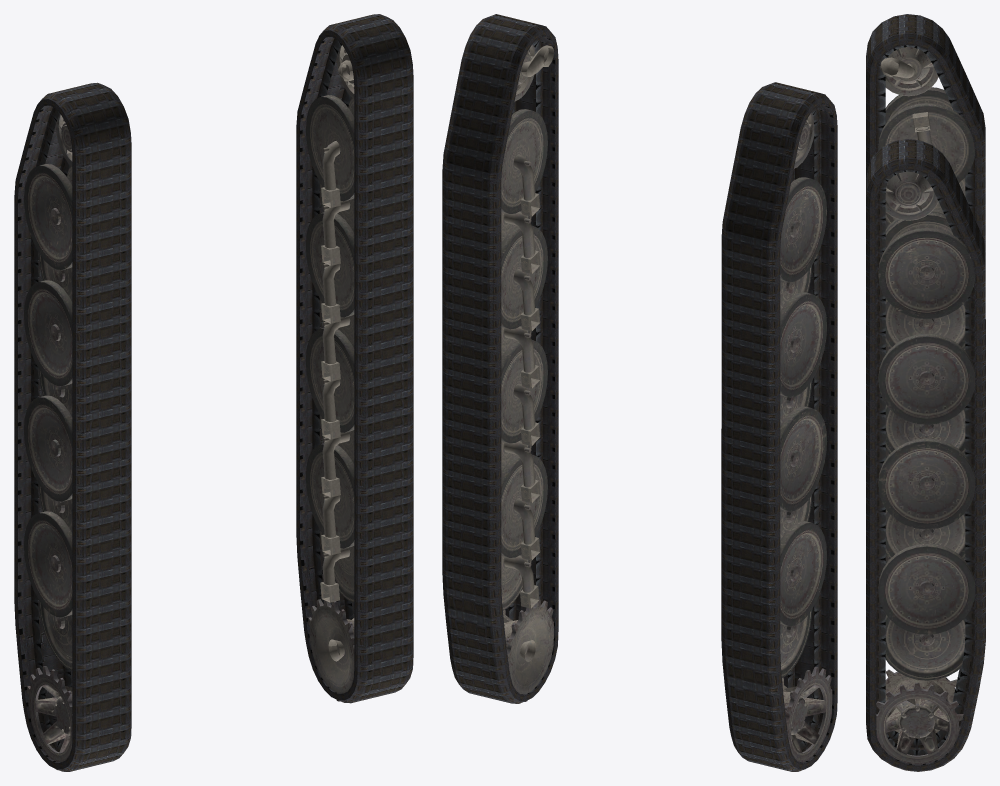
File: Chassis.glb
3 views of the same model, side by side, from view 1: azimuth 30°, elevation 25°; view 2: azimuth 150°, elevation 25°; view 3: azimuth 270°, elevation 25° (orthographic). The views are drawn at different scales.
Visible parts, largest first — view 1: set_1_group_0, set_0_group_0, set_3_group_0, set_2_group_0; view 2: set_1_group_0, set_0_group_0, set_3_group_0, set_2_group_0; view 3: set_3_group_0, set_0_group_0, set_1_group_0, set_2_group_0.
Boxes of the visible parts, <box> form: set_1_group_0: <box>14,82,131,771</box>; set_0_group_0: <box>296,14,413,703</box>; set_3_group_0: <box>306,45,354,702</box>; set_2_group_0: <box>24,114,72,770</box>; set_1_group_0: <box>721,82,837,771</box>; set_0_group_0: <box>442,14,558,703</box>; set_3_group_0: <box>501,44,554,702</box>; set_2_group_0: <box>780,113,832,762</box>; set_3_group_0: <box>876,171,974,771</box>; set_0_group_0: <box>866,139,985,771</box>; set_1_group_0: <box>866,14,985,451</box>; set_2_group_0: <box>878,47,974,232</box>.
Bounding box in the file's own units: 3.16 × 6.03 × 1.07.
Materials: 4 (4 with a texture image).
